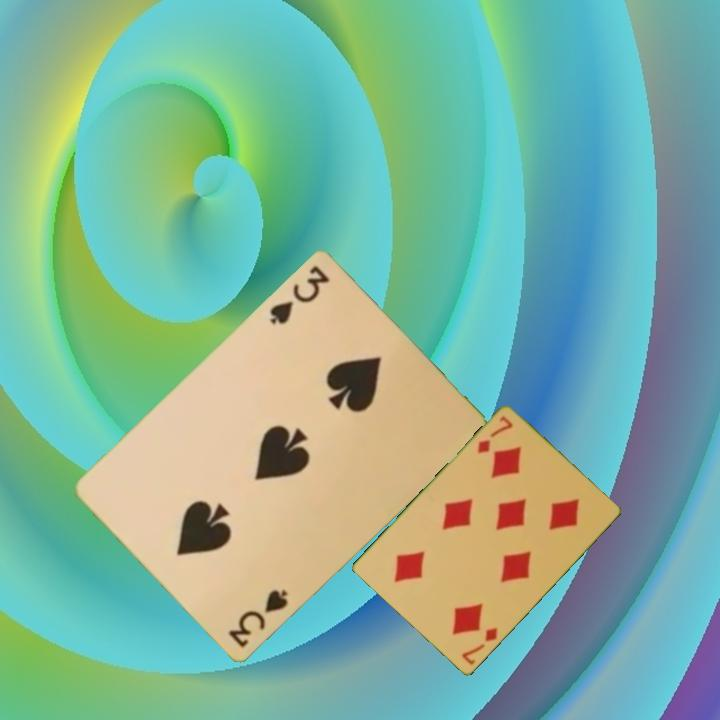3s: (265, 262, 333, 329), (225, 586, 291, 652)
7d: (458, 624, 501, 669), (473, 413, 516, 457)
